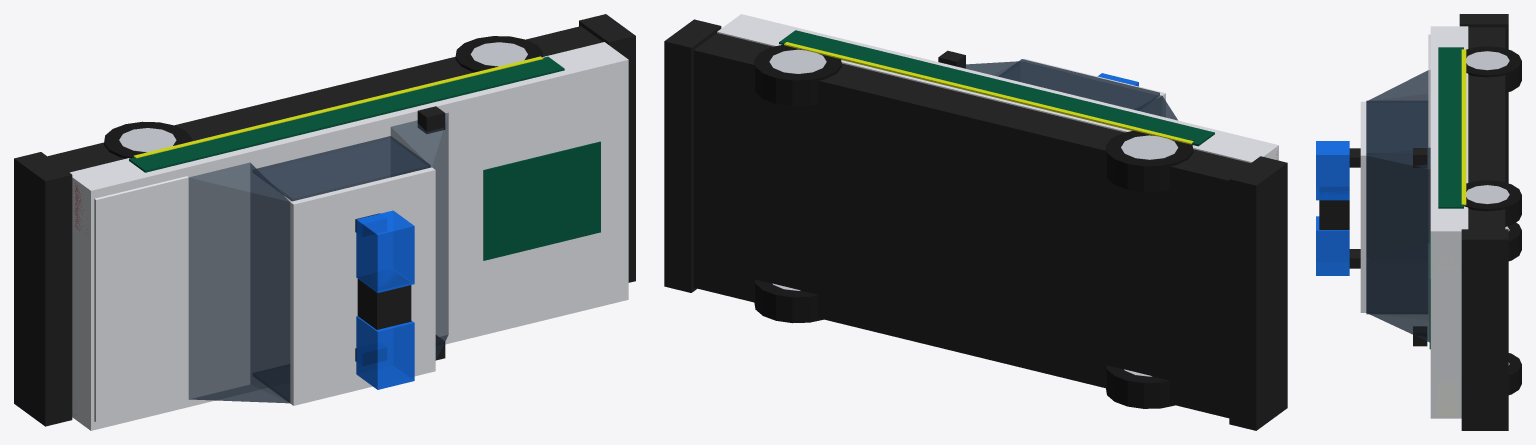
The model's file is Patrulla_Guardia_Civil.obj.
3 views of the same model, side by side, from view 1: azimuth 30°, elevation 25°; view 2: azimuth 150°, elevation 25°; view 3: azimuth 270°, elevation 25° (orthographic). The views are drawn at different scales.
Visible parts, largest first — view 1: Body_White, Windshield_Rear, Trunk_White, Roof, Bumper_Rear, Hood_White, Hood_Green_Stripes, Chassis, GC_Livery_Green, Side_Glass, Windshield_Front, Beacon_Right (+7 smaller); view 2: Chassis, Bumper_Rear, Bumper_Front, GC_Livery_Green, Body_White, Wheel_FR, Wheel_RR, Roof, Side_Glass, Wheel_FL, Wheel_RL, GC_Livery_Yellow (+1 smaller); view 3: Windshield_Front, Windshield_Rear, Bumper_Front, Body_White, Side_Glass, Chassis, GC_Livery_Green, Beacon_Right, Wheel_FR, Wheel_RR, Beacon_Left, Roof (+10 smaller).
Part boxes in pixels (x1,y1,x2,y2): Body_White: (70,42,628,430); Windshield_Rear: (188,162,290,403); Trunk_White: (94,176,188,421); Roof: (290,167,435,405); Bumper_Rear: (14,152,72,426); Hood_White: (448,73,624,333); Hood_Green_Stripes: (483,141,600,260); Chassis: (48,26,602,172); GC_Livery_Green: (129,56,564,172); Side_Glass: (253,136,430,403); Windshield_Front: (390,113,448,360); Beacon_Right: (356,210,414,292); Chassis: (693,33,1250,418); Bumper_Rear: (1229,156,1287,430); Bumper_Front: (664,19,721,292); GC_Livery_Green: (779,30,1214,146); Body_White: (717,14,1278,163); Wheel_FR: (754,44,841,106); Wheel_RR: (1106,130,1193,191); Roof: (1021,58,1165,116); Side_Glass: (998,59,1159,110); Wheel_FL: (754,279,823,323); Wheel_RL: (1106,365,1174,408); GC_Livery_Yellow: (784,42,1193,144); Windshield_Front: (1366,147,1430,342); Windshield_Rear: (1367,70,1428,258); Bumper_Front: (1461,229,1508,430); Body_White: (1430,26,1468,418); Side_Glass: (1366,100,1428,314); Chassis: (1468,27,1505,229); GC_Livery_Green: (1438,47,1463,208); Beacon_Right: (1316,141,1349,200); Wheel_FR: (1464,180,1521,226); Wheel_RR: (1466,46,1521,92); Beacon_Left: (1316,216,1349,275); Roof: (1360,101,1366,312).
Size of the model in its own units: 480 by 190 by 185.
